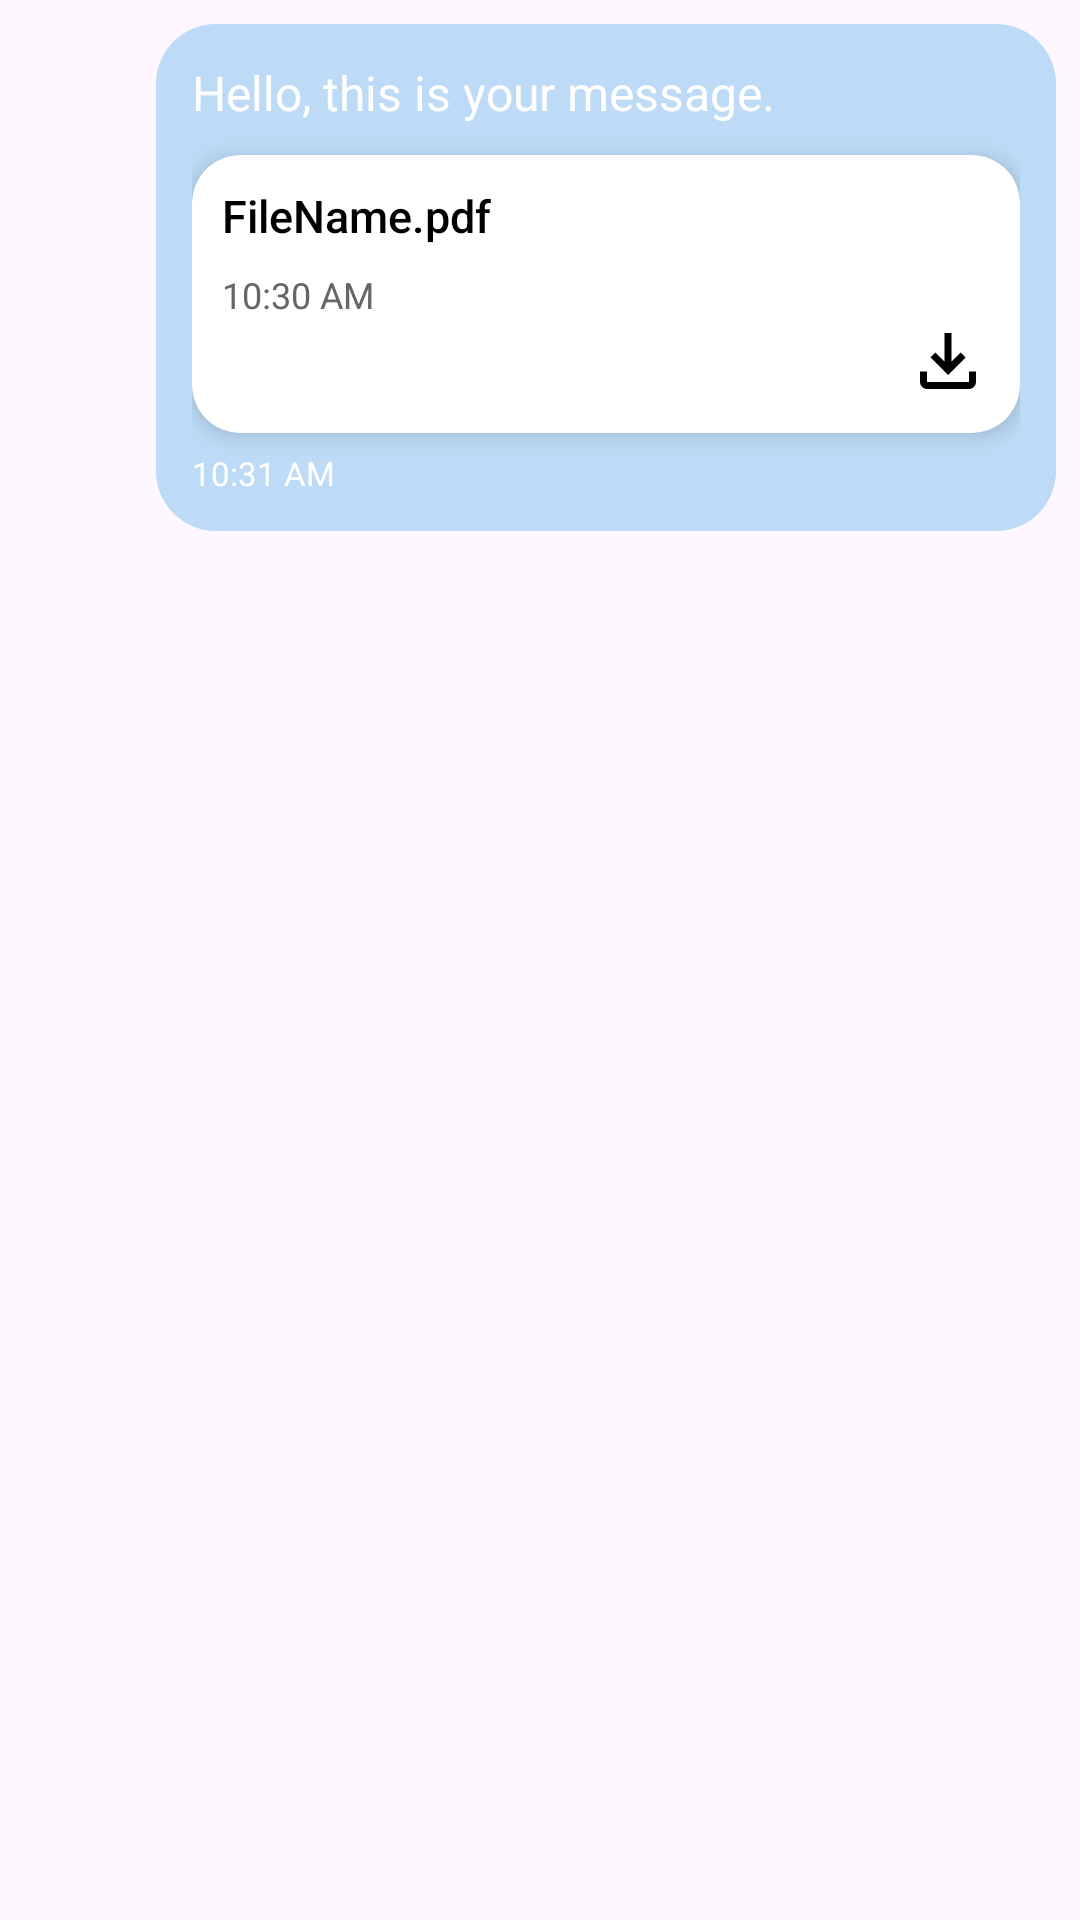

Screen size 1080 × 1920. Icon name, then its center in pixels as [x,y]:
download: [948,361]
